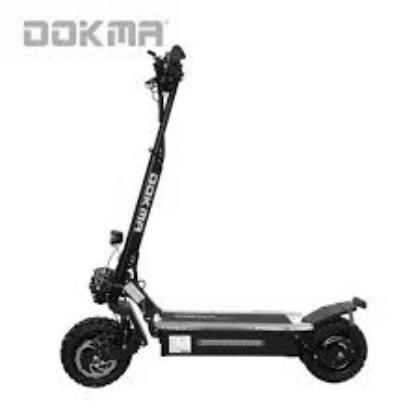bike: (60, 46, 368, 389)
